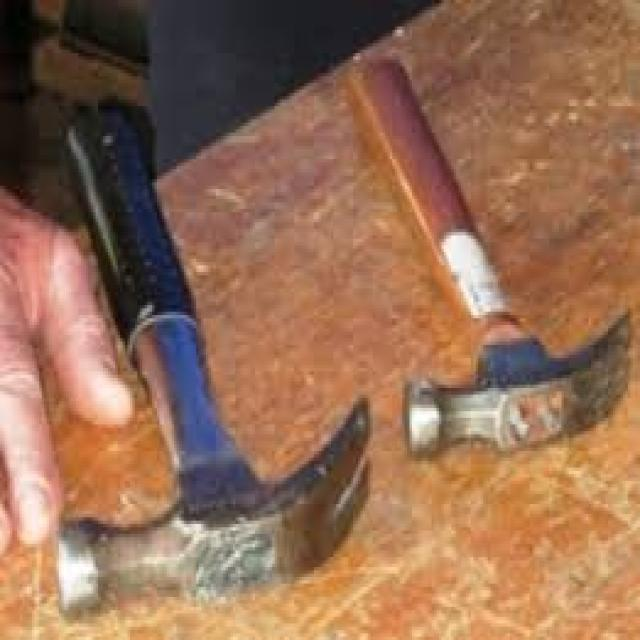hammer: (48, 93, 382, 617), (347, 45, 634, 486)
